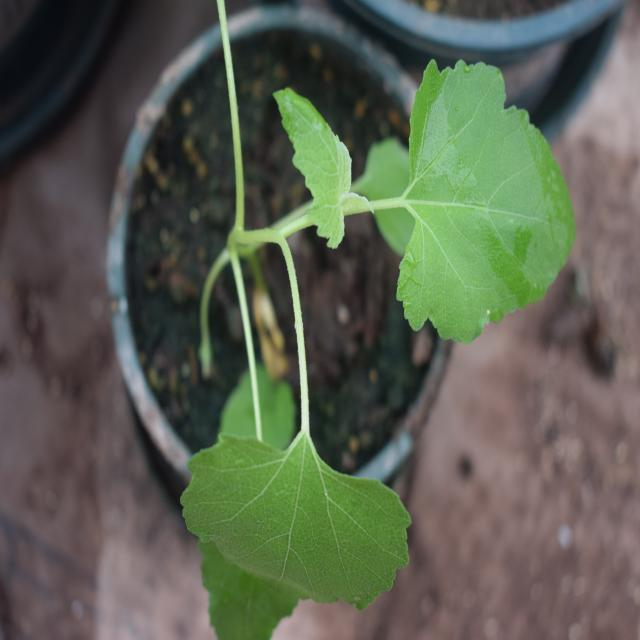cocklebur: (196, 46, 584, 609)
